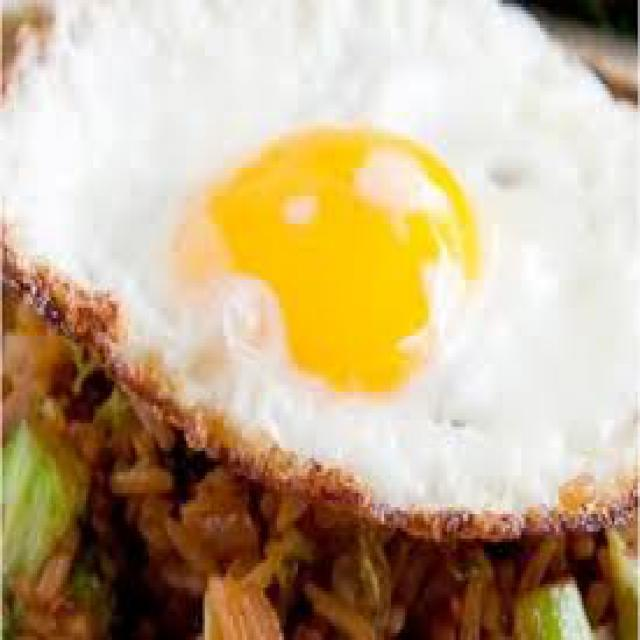Fried Egg: (2, 0, 638, 528)
